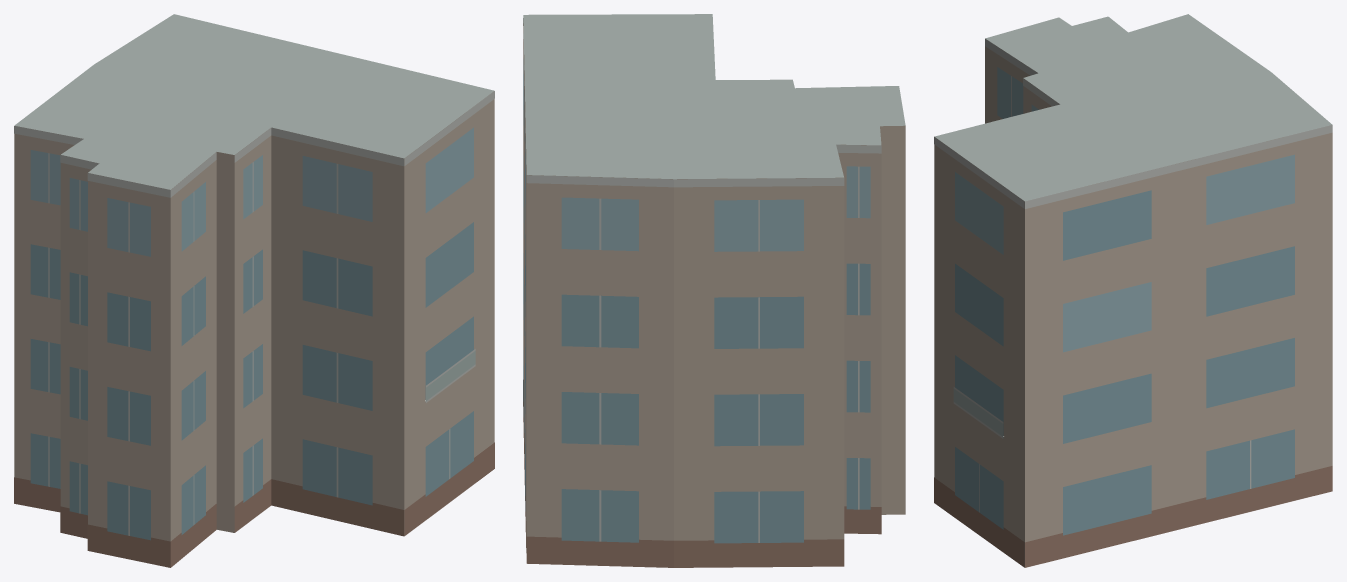
File: survey-upis-32724558.glb
3 views of the same model, side by side, from view 1: azimuth 30°, elevation 25°; view 2: azimuth 150°, elevation 25°; view 3: azimuth 270°, elevation 25° (orthographic). The views are drawn at different scales.
Visible parts, largest first — view 1: survey-upis-32724558.tmp; view 2: survey-upis-32724558.tmp; view 3: survey-upis-32724558.tmp.
Boxes of the visible parts, bbox=[...] form: survey-upis-32724558.tmp: bbox=[14, 14, 494, 567]; survey-upis-32724558.tmp: bbox=[523, 14, 905, 567]; survey-upis-32724558.tmp: bbox=[934, 14, 1332, 567].
Bounding box in the file's own units: 12.74 × 11.6 × 11.44.
